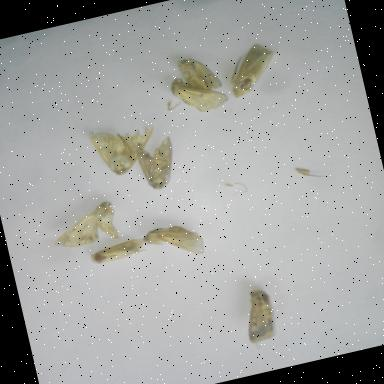abw: (76, 112, 173, 188), (40, 195, 129, 261), (216, 34, 290, 109), (162, 62, 240, 130), (122, 128, 194, 200), (137, 212, 214, 271), (230, 282, 292, 352), (169, 44, 231, 104), (82, 230, 146, 274)
